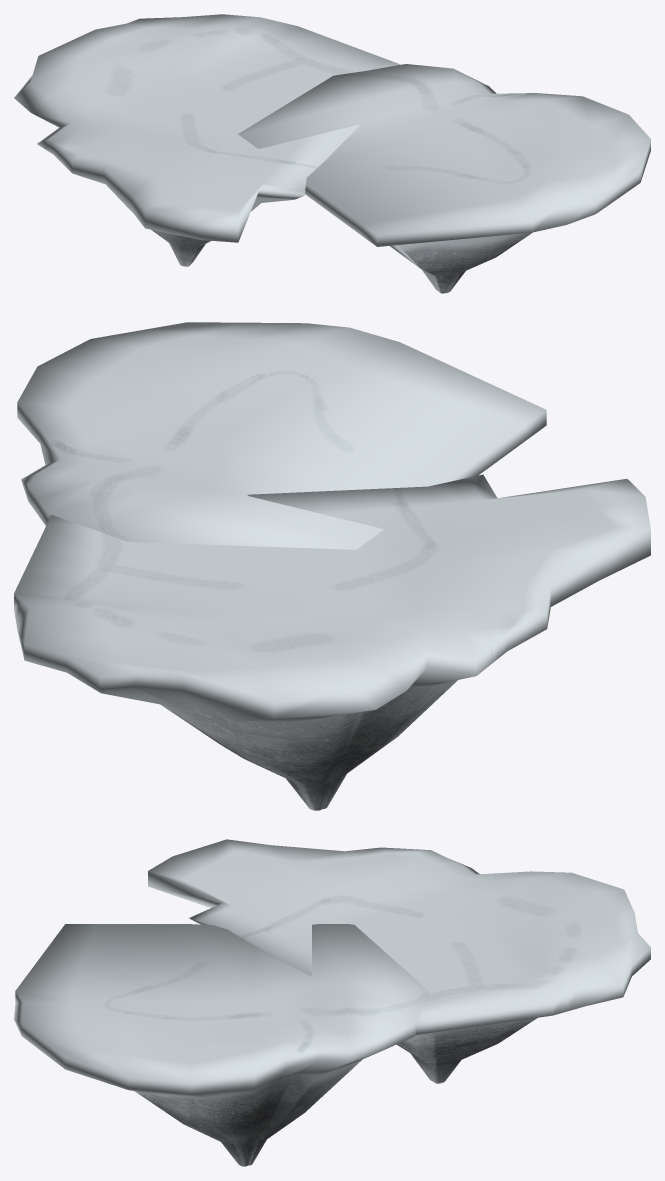
File: Mainland.fbx
3 renders of one model, top to bottom at view 1: azimuth 30°, elevation 25°; view 2: azimuth 150°, elevation 25°; view 3: azimuth 270°, elevation 25°, orthographic. The views are drawn at different scales.
Visible parts, largest first — view 1: Plane, Plane.001; view 2: Plane.001, Plane; view 3: Plane, Plane.001.
Part boxes in pixels (x1=…): Plane: x1=238, y1=64, x2=650, y2=293; Plane.001: x1=14, y1=14, x2=400, y2=266; Plane.001: x1=14, y1=474, x2=650, y2=810; Plane: x1=17, y1=322, x2=546, y2=549; Plane: x1=14, y1=924, x2=428, y2=1166; Plane.001: x1=148, y1=839, x2=650, y2=1083.
Bounding box in the file's own units: 12532 × 4232 × 14264.
Materials: 2 (2 with a texture image).
